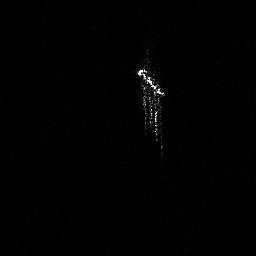ship: (132, 62, 170, 157)
